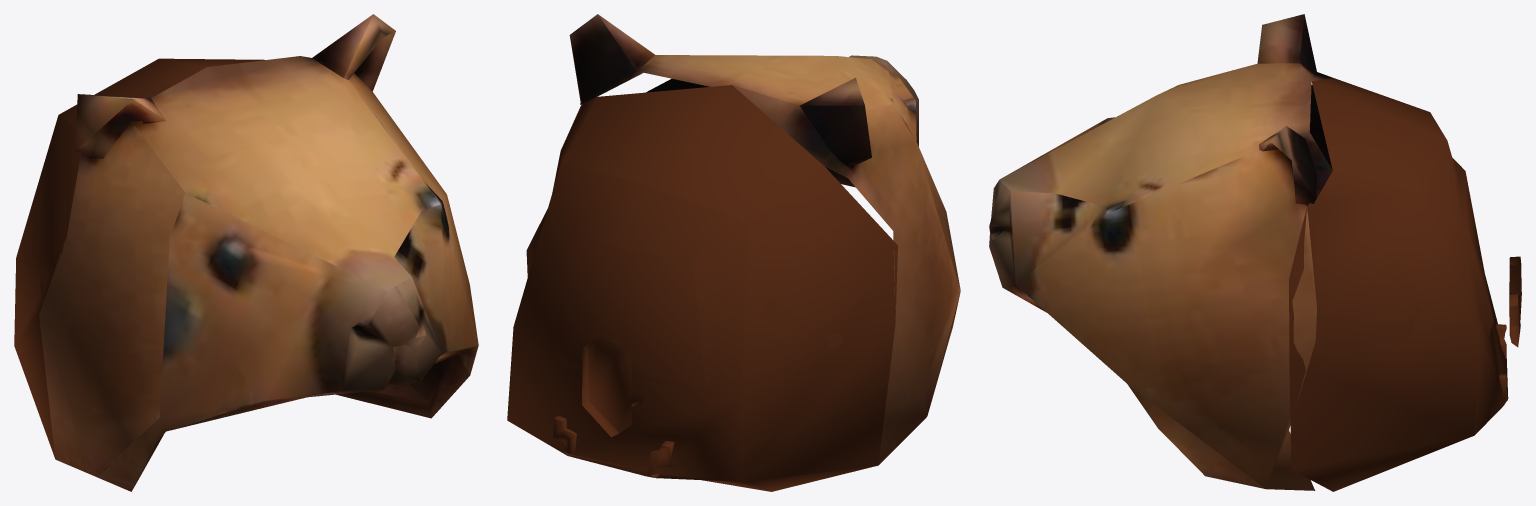
The model's file is capybara.glb.
3 renders of one model, left to right at view 1: azimuth 30°, elevation 25°; view 2: azimuth 150°, elevation 25°; view 3: azimuth 270°, elevation 25°, orthographic. The views are drawn at different scales.
Visible parts, largest first — view 1: geometry_0; view 2: geometry_0; view 3: geometry_0.
Boxes of the visible parts, x1,y1,x2,y2 form: geometry_0: (14, 14, 478, 491); geometry_0: (507, 14, 960, 491); geometry_0: (989, 14, 1521, 491).
Size of the model in its own units: 0.436 by 0.4415 by 0.5839.
Materials: 2 (1 with a texture image).
